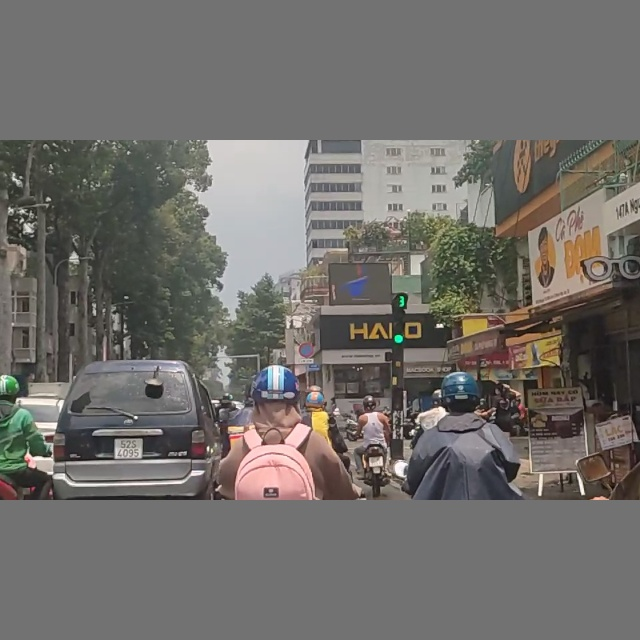P.131a: (299, 341, 316, 359)
